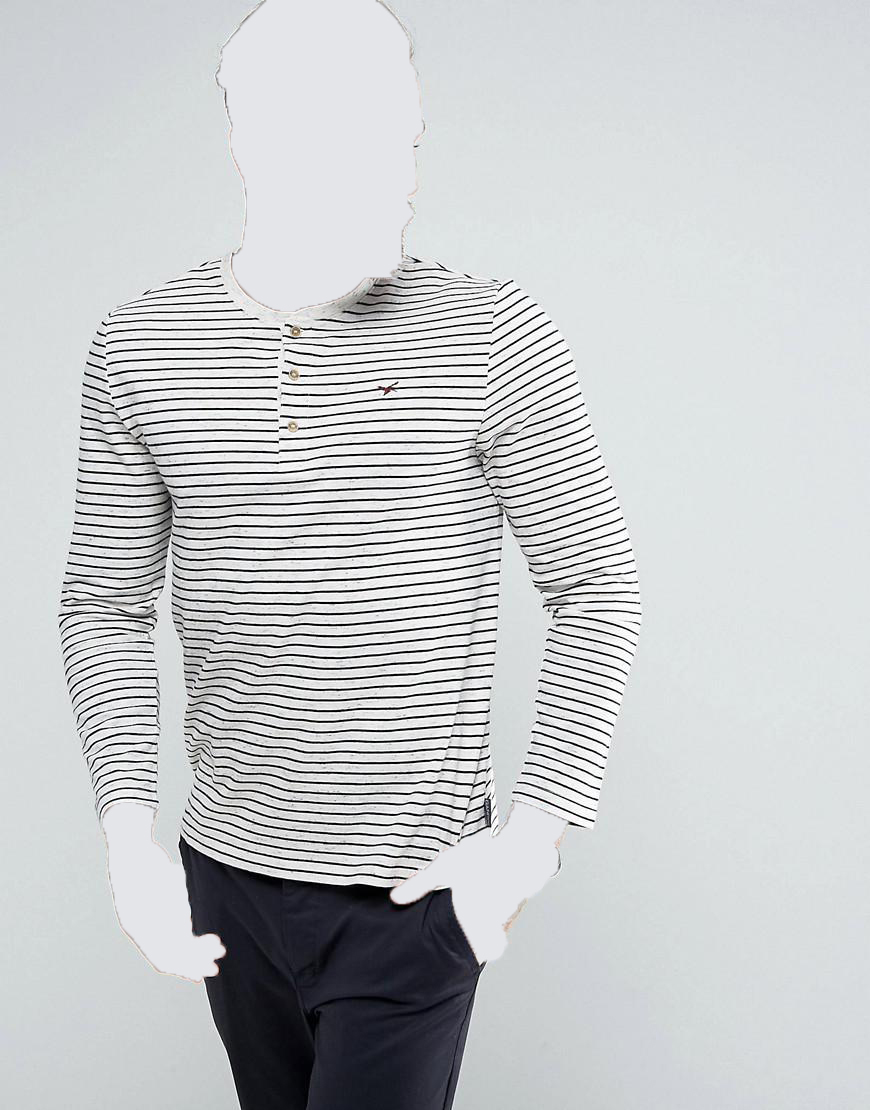teeshirt: (51, 251, 629, 901)
